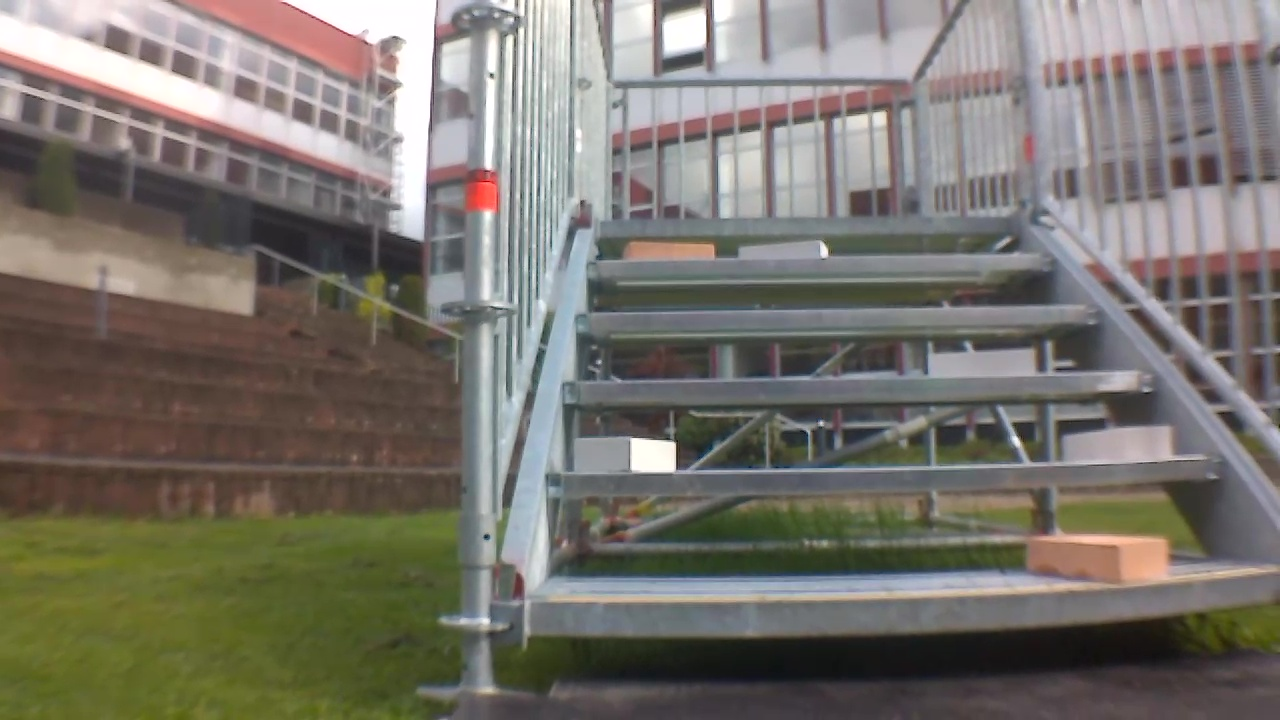brick: (1026, 534, 1167, 583), (1064, 426, 1171, 460), (574, 436, 675, 472), (929, 349, 1035, 377), (739, 239, 826, 259), (623, 242, 714, 259)
edge: (528, 567, 1276, 636), (546, 456, 1222, 494), (563, 370, 1161, 402), (577, 304, 1103, 329), (588, 252, 1057, 273), (599, 216, 1020, 234)
stairs: (446, 2, 1278, 695)
steps: (518, 210, 1280, 644)
